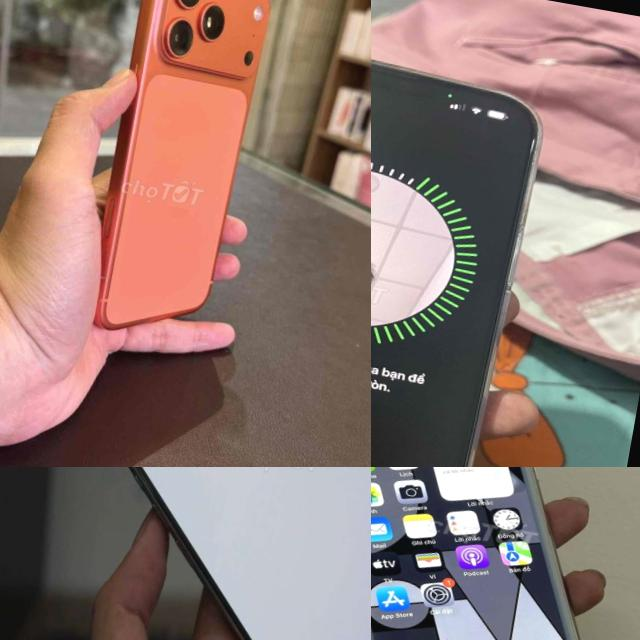gen_12_13: (371, 12, 553, 467)
gen_15: (35, 467, 371, 640)
gen_17: (74, 0, 279, 352)
gen_7_8: (371, 467, 640, 640)
